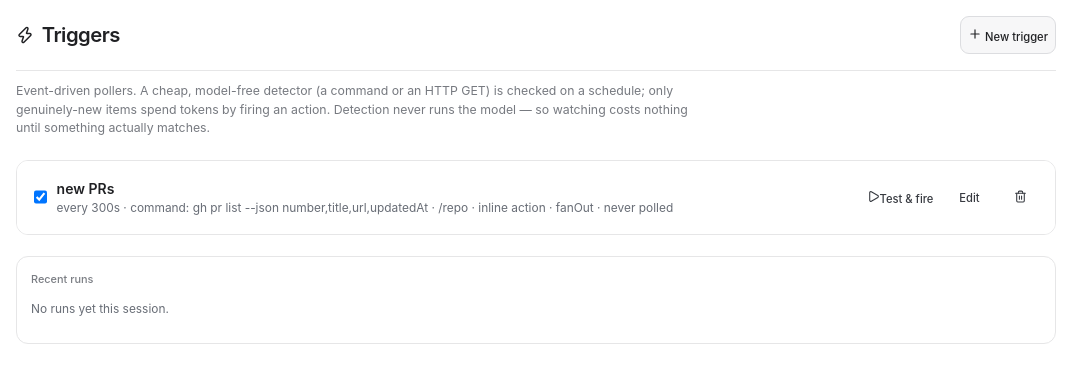
Triggers panel › confirms before firing and relies on the event stream for history
Expected: the text "new PRs" is shown, [57,180,114,197]
Click the button with aria-label "test and fire new PRs".
click(900, 198)  # box [860,176,940,220]
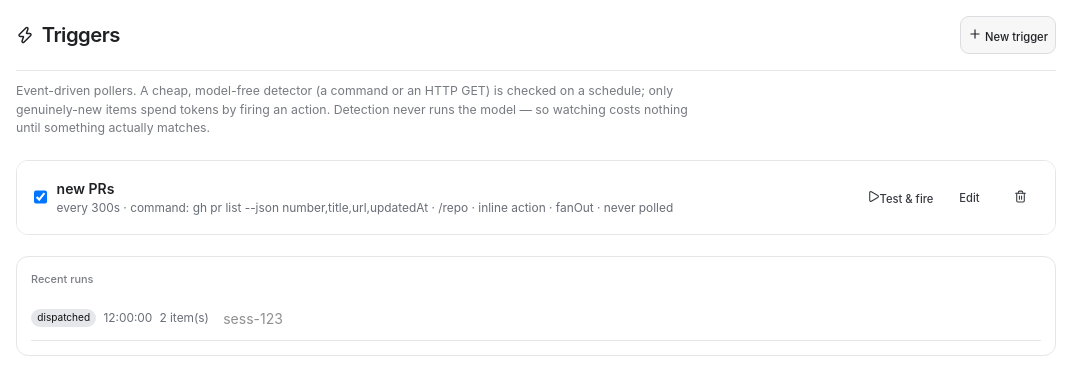
Result: the text "dispatched" is shown once at [31,309,96,327]
